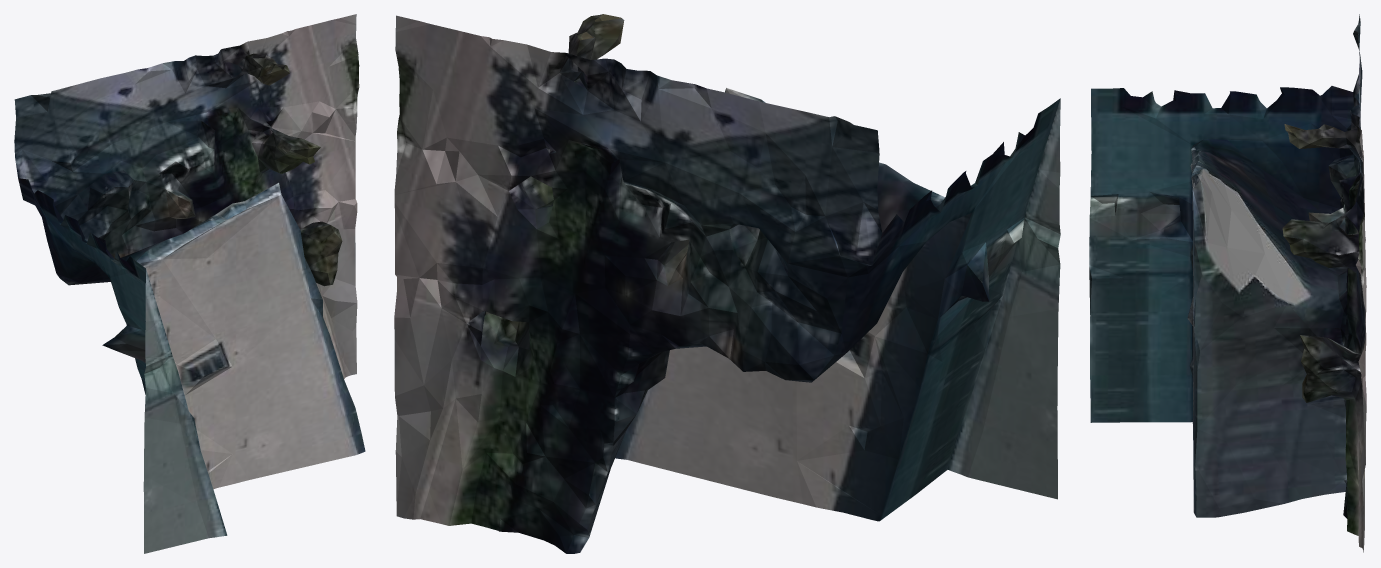
The model's file is Tile_+032_+022_L19_000321.obj.
The picture shows the model from 3 angles, left to right: view 1: azimuth 30°, elevation 25°; view 2: azimuth 150°, elevation 25°; view 3: azimuth 270°, elevation 25°; orthographic projection. The views are drawn at different scales.
Size of the model in its own units: 31.75 by 31.75 by 21.69.
1 material, 1 textured.
